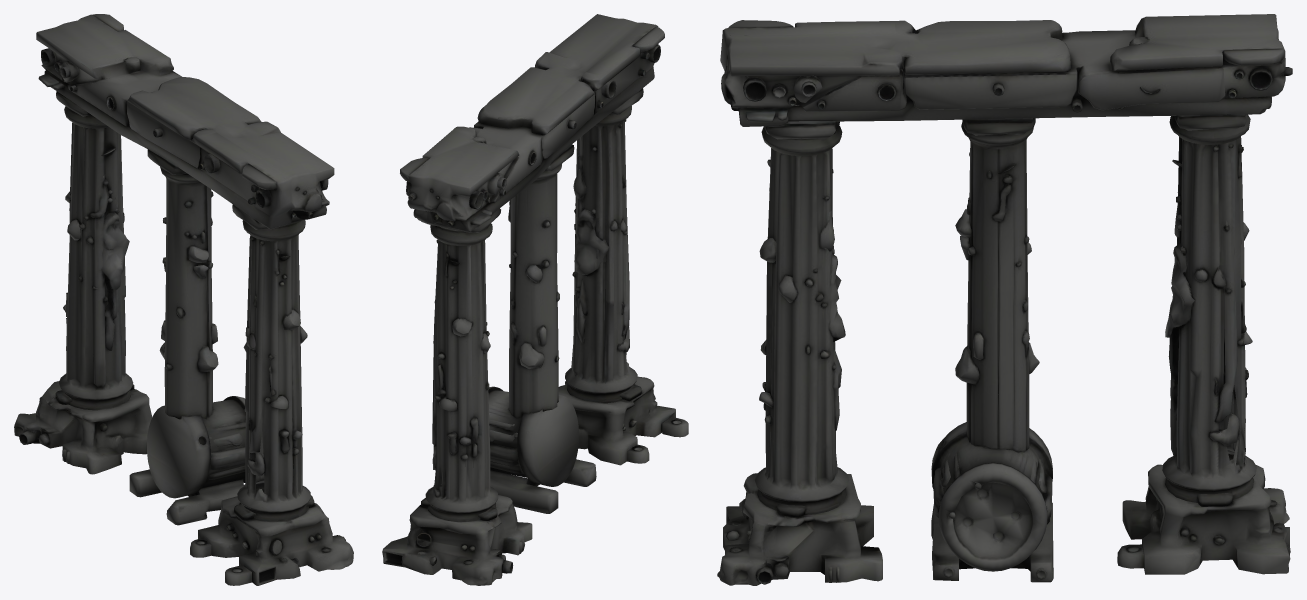
File: broken-colonnade.glb
3 renders of one model, left to right at view 1: azimuth 30°, elevation 25°; view 2: azimuth 150°, elevation 25°; view 3: azimuth 270°, elevation 25°, orthographic. The views are drawn at different scales.
Visible parts, largest first — view 1: tripo_node_3360c6d0-4c51-4e3c-9938-815a7cdfa685; view 2: tripo_node_3360c6d0-4c51-4e3c-9938-815a7cdfa685; view 3: tripo_node_3360c6d0-4c51-4e3c-9938-815a7cdfa685.
Boxes of the visible parts, box(x1,y1,x2,y2) form: tripo_node_3360c6d0-4c51-4e3c-9938-815a7cdfa685: box(14, 14, 353, 585); tripo_node_3360c6d0-4c51-4e3c-9938-815a7cdfa685: box(382, 14, 688, 585); tripo_node_3360c6d0-4c51-4e3c-9938-815a7cdfa685: box(717, 14, 1292, 585).
Size of the model in its own units: 0.3481 by 0.978 by 0.9995.
Materials: 1 (1 with a texture image).
